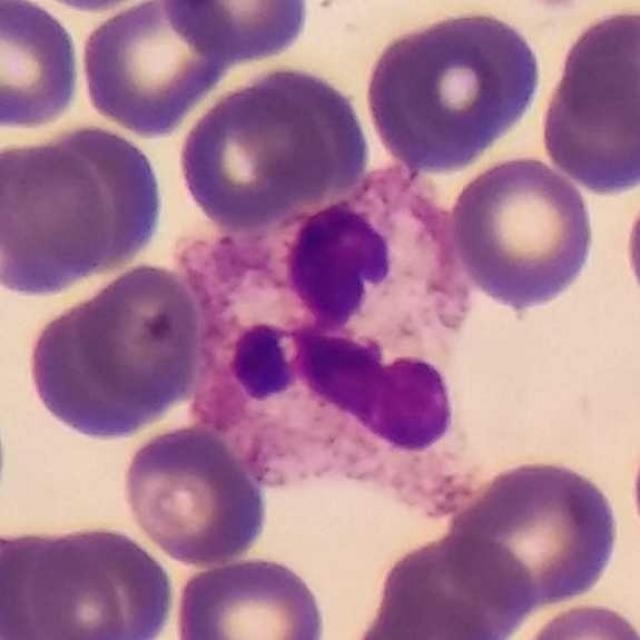Neutrophil: (165, 150, 487, 530)
RBC: (172, 61, 368, 232), (360, 3, 548, 174), (36, 260, 210, 438), (443, 453, 624, 612), (446, 151, 600, 314), (76, 0, 242, 139), (117, 422, 273, 569), (0, 136, 115, 299), (24, 521, 180, 640), (370, 528, 535, 640), (41, 116, 159, 270), (169, 552, 331, 640), (536, 61, 640, 197), (553, 9, 640, 141), (0, 0, 85, 135), (0, 523, 97, 640), (159, 0, 313, 63), (348, 584, 509, 640), (505, 597, 639, 640), (0, 520, 27, 640), (620, 174, 640, 324), (15, 0, 179, 13)
